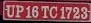character: (15, 4, 24, 18), (40, 5, 49, 18), (6, 4, 14, 17), (31, 5, 39, 18), (72, 6, 80, 19), (49, 6, 57, 18), (24, 5, 31, 18), (59, 5, 65, 19), (80, 7, 87, 19), (65, 6, 71, 19)
